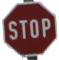Stop sign: (0, 0, 58, 59)
